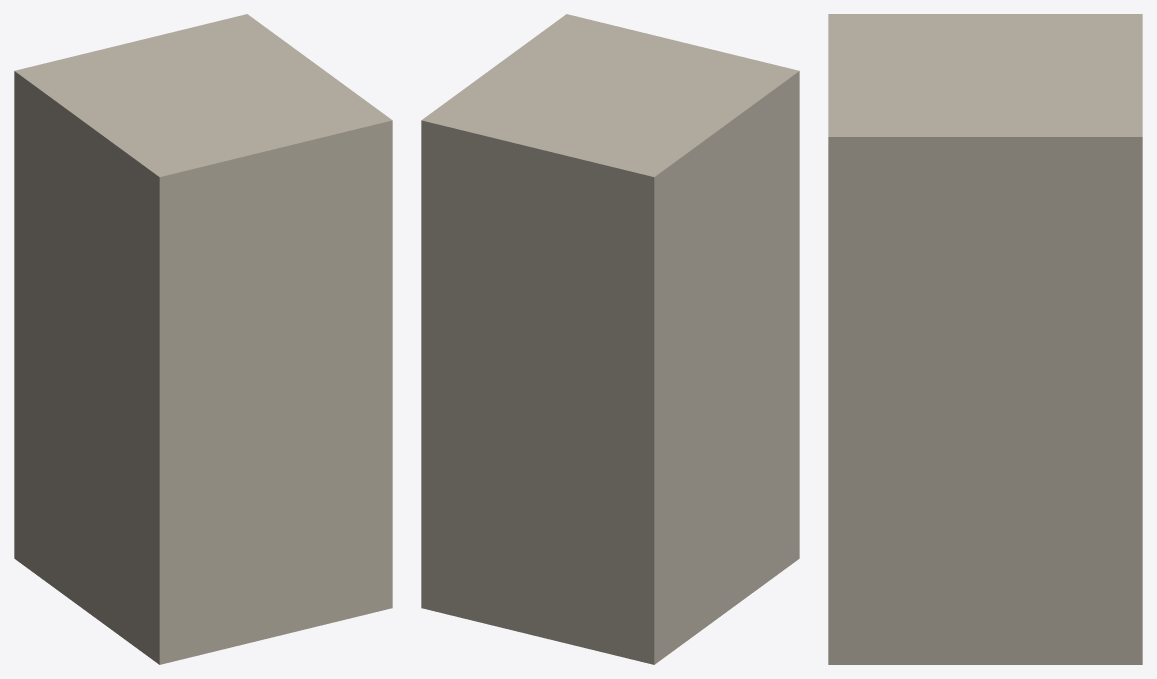
File: ikea-bergmund-30510969-g2-proxy.glb
The picture shows the model from 3 angles, left to right: view 1: azimuth 30°, elevation 25°; view 2: azimuth 150°, elevation 25°; view 3: azimuth 270°, elevation 25°; orthographic projection. The views are drawn at different scales.
Visible parts, largest first — view 1: proxy_body; view 2: proxy_body; view 3: proxy_body.
Part boxes in pixels (x1,y1,x2,y2): proxy_body: [14, 14, 392, 664]; proxy_body: [421, 14, 799, 664]; proxy_body: [828, 14, 1142, 664].
Bounding box in the file's own units: 0.5 × 1 × 0.54.
